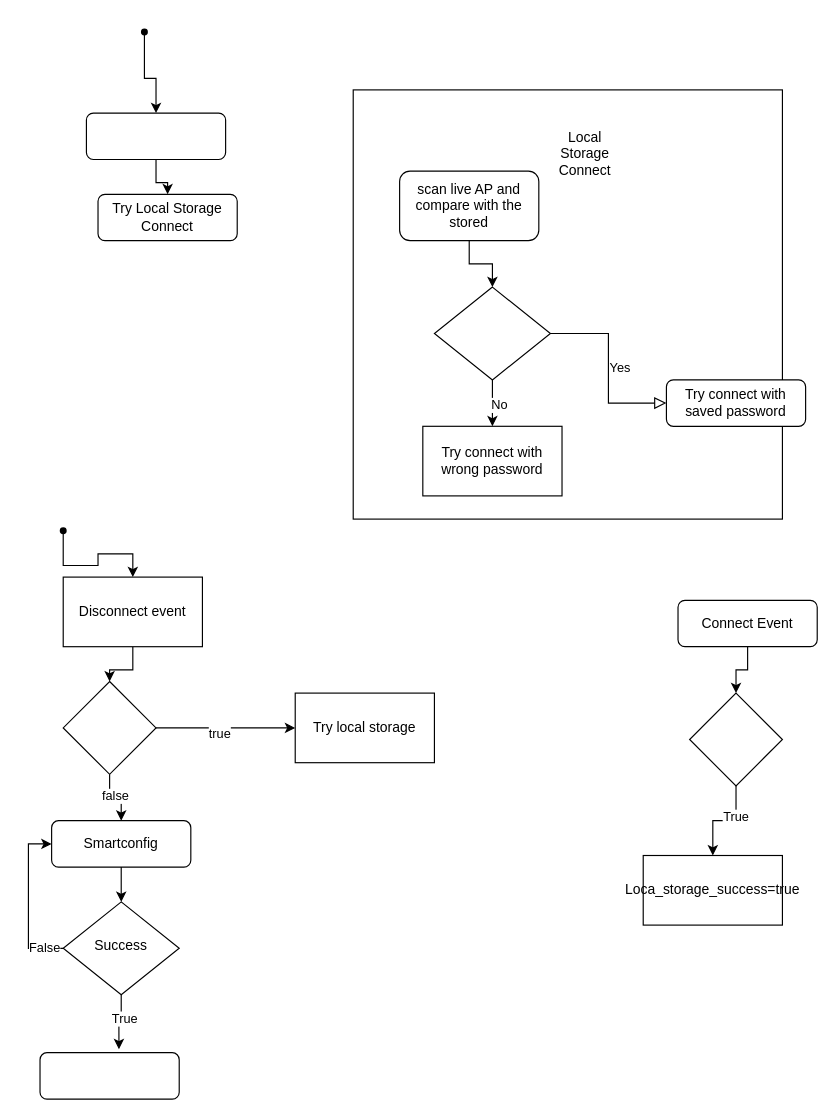
Image size: 838x1119. Some labels were removed from this diagram. The box of each missing label's shape, as (x1, y1, x2, y2) in pixels:
Add to storage record: (39, 1052, 179, 1099)
Local Storage success=true: (62, 680, 156, 774)
Local Storage Tried: (688, 692, 782, 786)
SSID Found: (433, 286, 550, 380)
Wifi Started: (85, 112, 226, 160)
